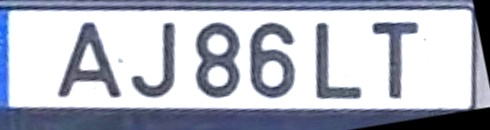6: (249, 21, 298, 101)
8: (194, 21, 243, 101)
A: (54, 21, 125, 98)
J: (130, 22, 179, 101)
L: (314, 21, 364, 100)
T: (369, 20, 421, 99)
